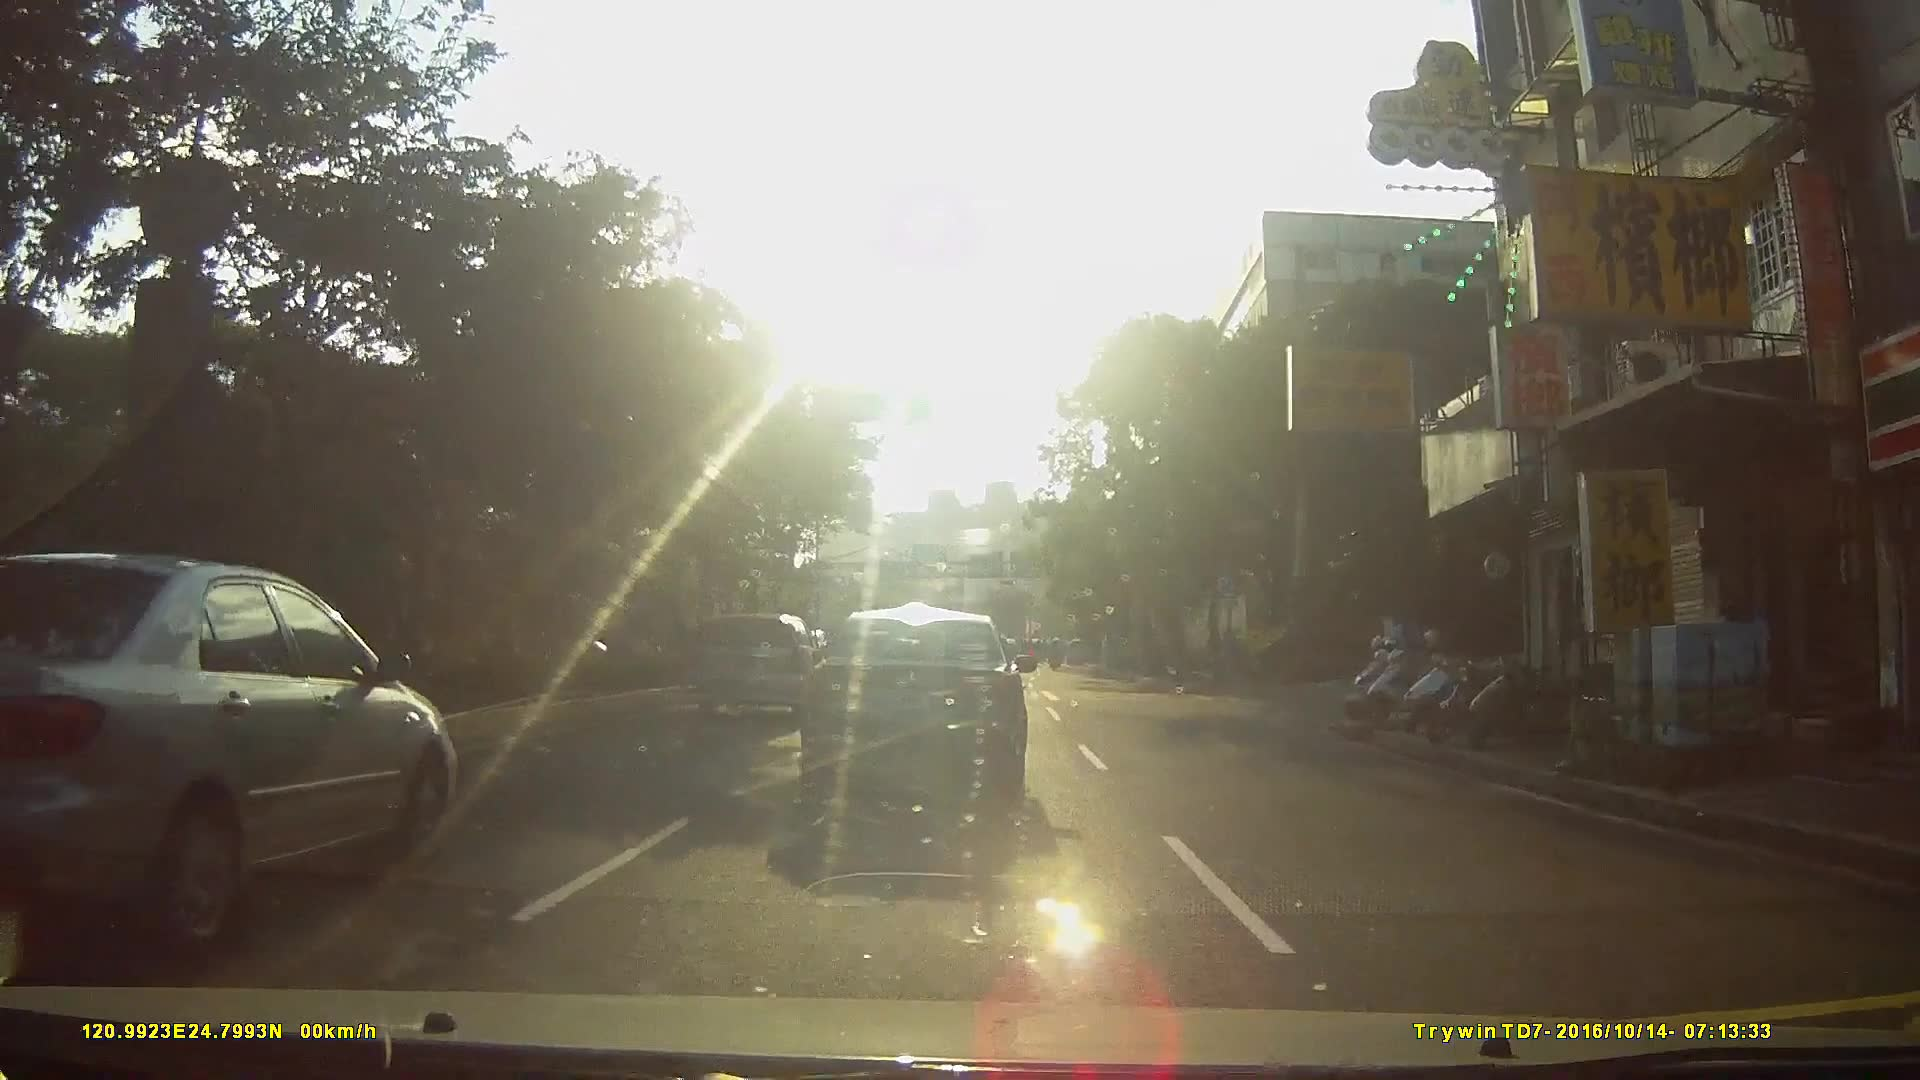pedestrian: (1707, 587, 1774, 741)
vehicle: (0, 551, 482, 941), (809, 603, 1052, 815), (696, 612, 825, 719), (1064, 635, 1098, 666)
